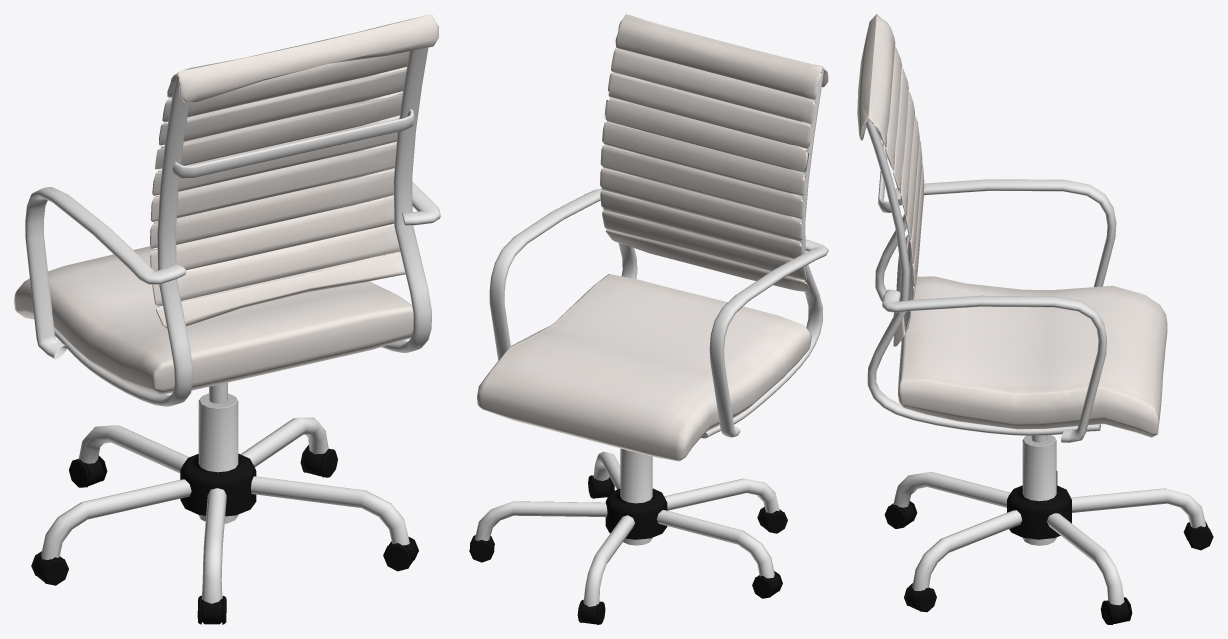
File: office_chair01.fbx
3 views of the same model, side by side, from view 1: azimuth 30°, elevation 25°; view 2: azimuth 150°, elevation 25°; view 3: azimuth 270°, elevation 25° (orthographic). The views are drawn at different scales.
Visible parts, largest first — view 1: office chair low poly.007; view 2: office chair low poly.007; view 3: office chair low poly.007.
Part boxes in pixels (box(x1,y1,x2,y2)): office chair low poly.007: box(14, 14, 440, 624); office chair low poly.007: box(469, 14, 828, 624); office chair low poly.007: box(857, 14, 1213, 624).
Bounding box in the file's own units: 65.98 × 106 × 69.76.
